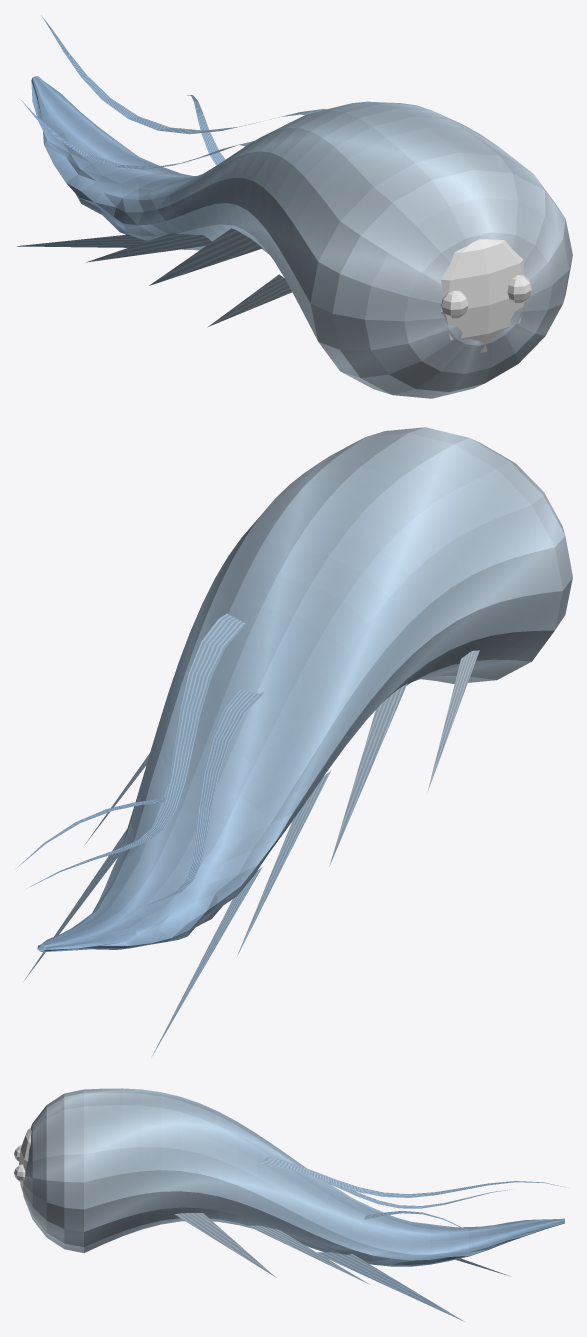
Rendered from FogWisp.fbx.
3 views of the same model, one above another, from view 1: azimuth 30°, elevation 25°; view 2: azimuth 150°, elevation 25°; view 3: azimuth 270°, elevation 25° (orthographic). The views are drawn at different scales.
Parts seen in each view (by area): view 1: FogWisp; view 2: FogWisp; view 3: FogWisp.
Boxes of the visible parts, <box> form: FogWisp: <box>17,15,572,398</box>; FogWisp: <box>17,427,572,1055</box>; FogWisp: <box>14,1088,568,1321</box>.
Bounding box in the file's own units: 128 × 158 × 395.
Materials: 3 (1 with a texture image).
